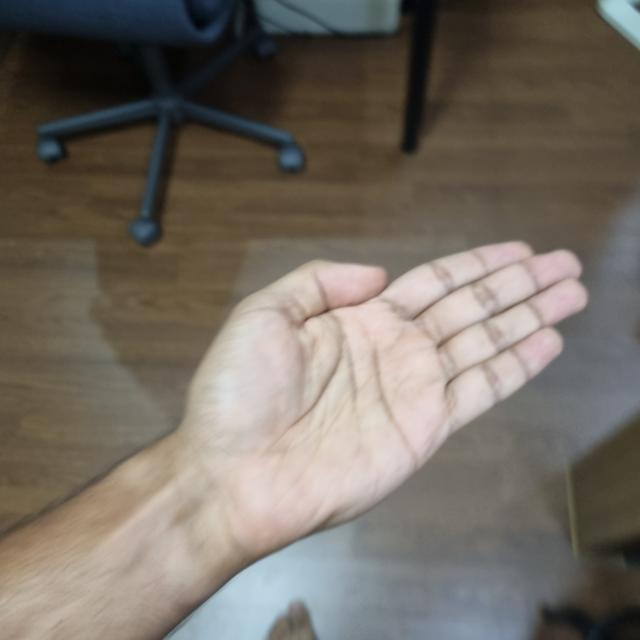Paper: (193, 243, 585, 547)
